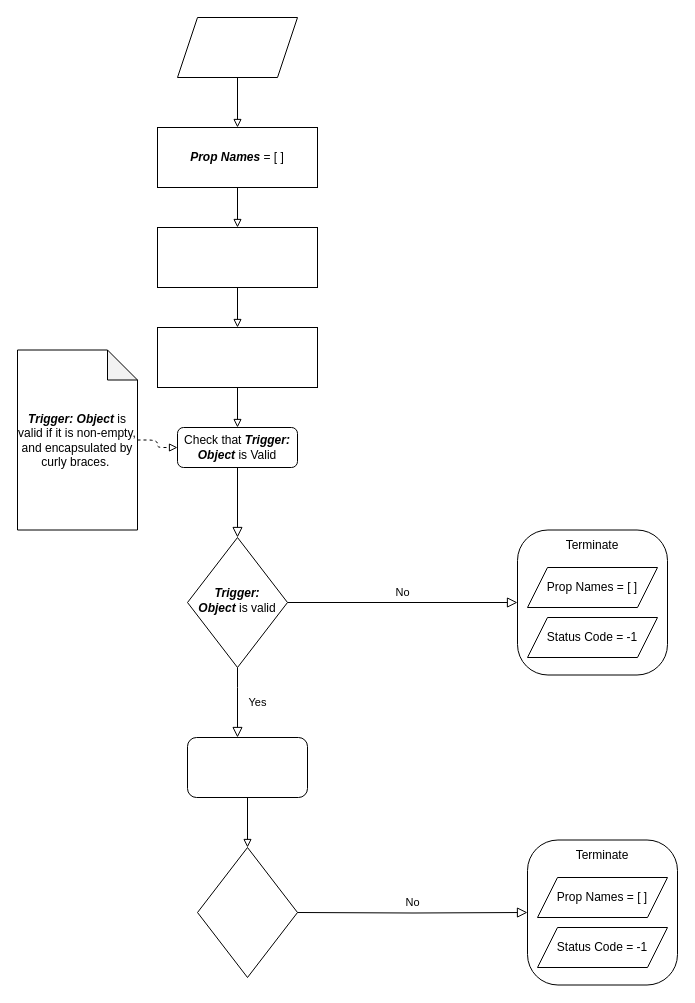
Image size: 695x1003. Some labels were removed from this diagram. The box of each missing label's shape, as (x1, y1, x2, y2) in pixels:
Object: (176, 16, 298, 78)
Parse JSON is success: (196, 846, 298, 978)
Parse JSON: Trigger : Object: (186, 736, 308, 798)
Status Code = 0: (156, 226, 318, 288)
Trigger: Object = trim(Object): (156, 326, 318, 388)
